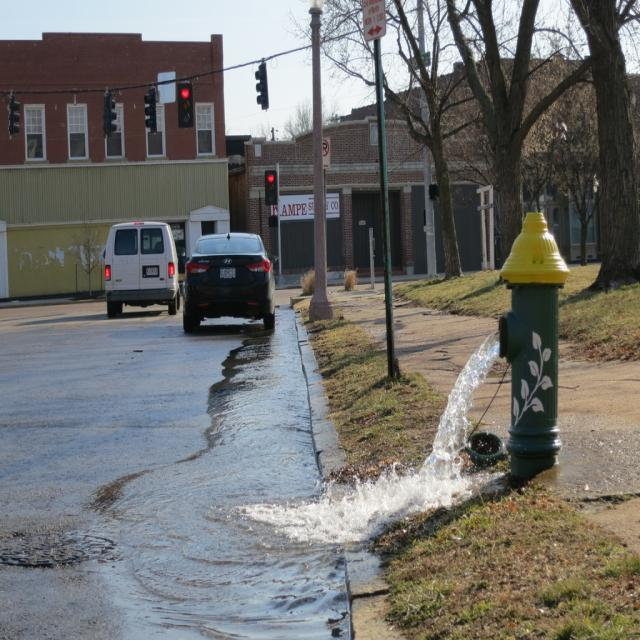fire_hydrant: (499, 213, 568, 480)
